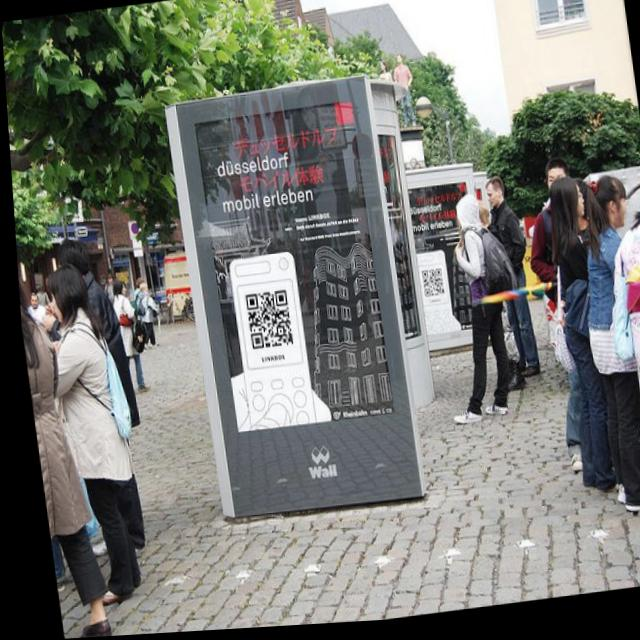qrcode: (240, 293, 287, 352), (418, 274, 440, 301)
